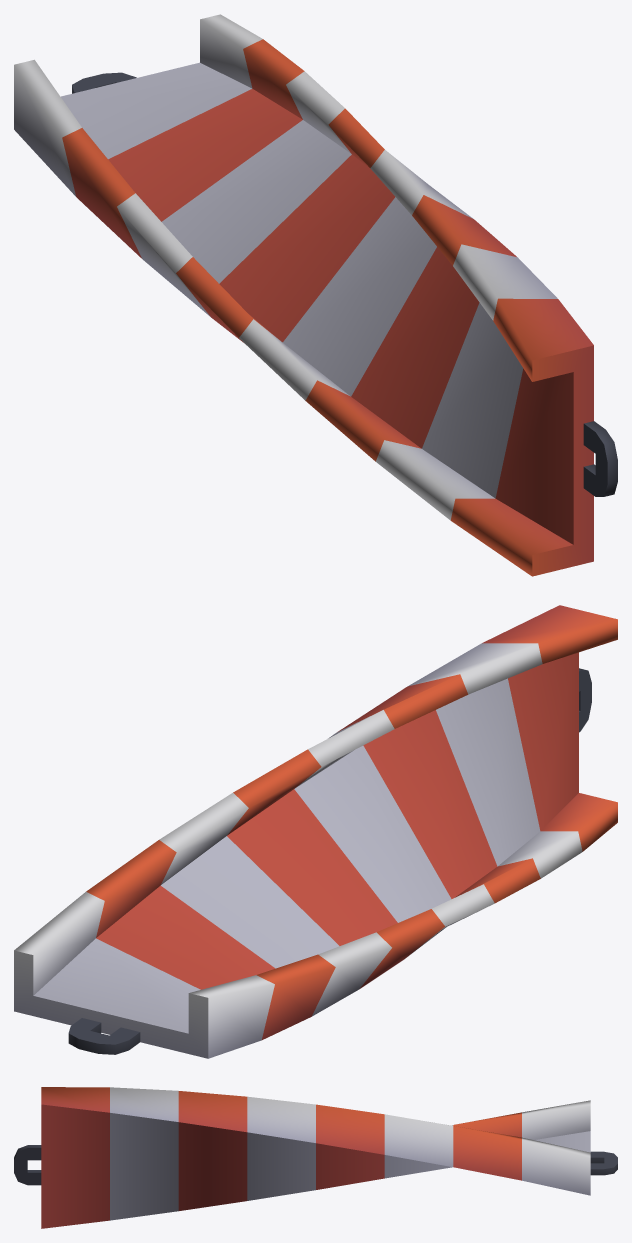
Rendered from track-striped-narrow-straight-skew-right-side.glb.
3 renders of one model, top to bottom at view 1: azimuth 30°, elevation 25°; view 2: azimuth 150°, elevation 25°; view 3: azimuth 270°, elevation 25°, orthographic. The views are drawn at different scales.
Parts seen in each view (by area): view 1: track-striped-narrow-straight-skew-right-side; view 2: track-striped-narrow-straight-skew-right-side; view 3: track-striped-narrow-straight-skew-right-side.
Part boxes in pixels (left/top/right/bottom): track-striped-narrow-straight-skew-right-side: left=14, top=14, right=617, bottom=576; track-striped-narrow-straight-skew-right-side: left=14, top=605, right=617, bottom=1058; track-striped-narrow-straight-skew-right-side: left=14, top=1087, right=617, bottom=1228.
Bounding box in the file's own units: 1.08 × 1.08 × 4.4.
